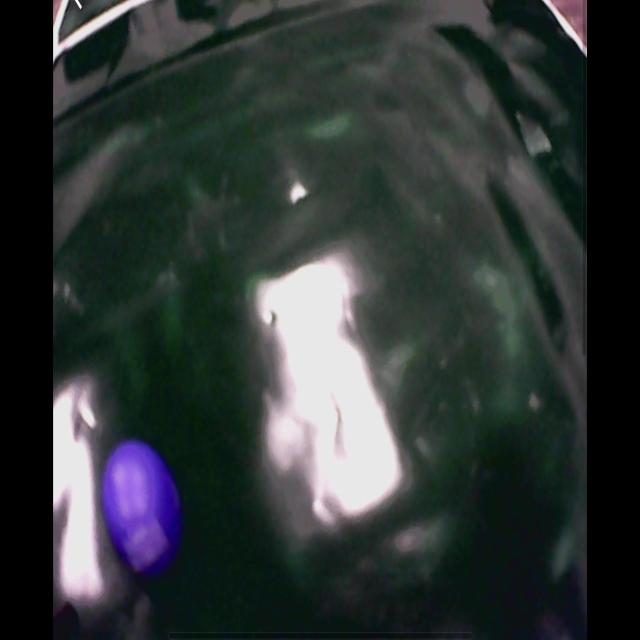ball: (102, 444, 182, 571)
